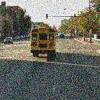buses: (30, 27, 58, 59)
